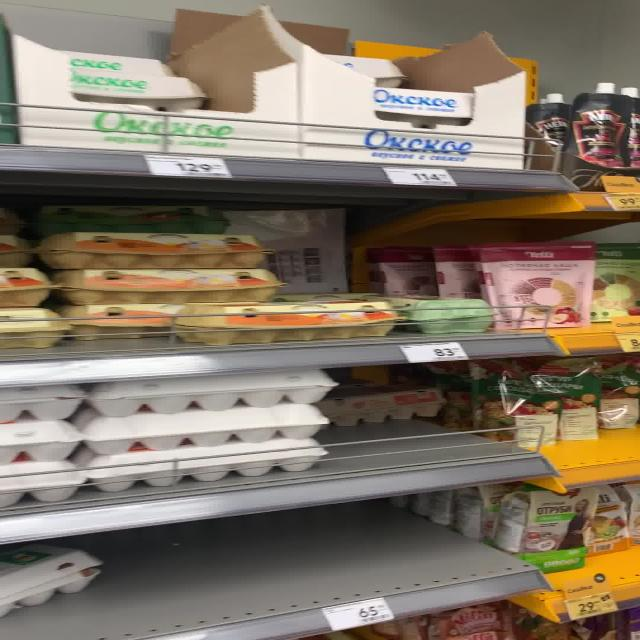egg box: (481, 240, 602, 331), (166, 295, 390, 341), (36, 233, 262, 269), (52, 264, 269, 301), (486, 480, 581, 559), (559, 81, 625, 174), (526, 85, 580, 169), (595, 238, 635, 322)
